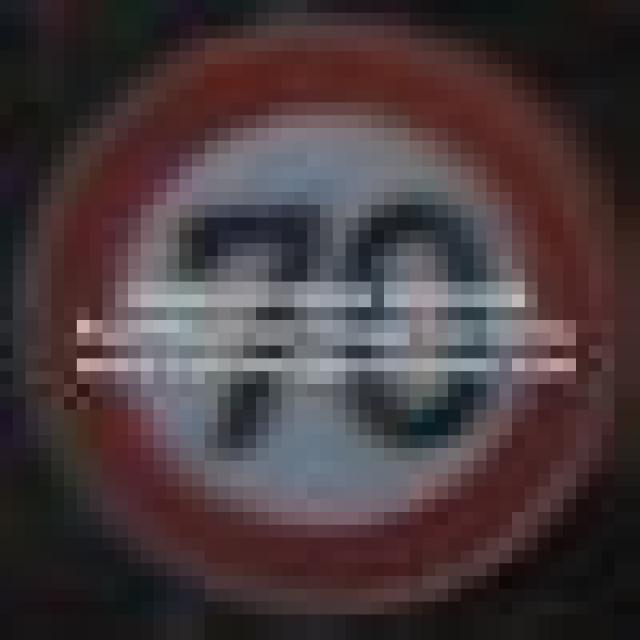SPEED_LIMIT_70: (38, 26, 589, 588)
